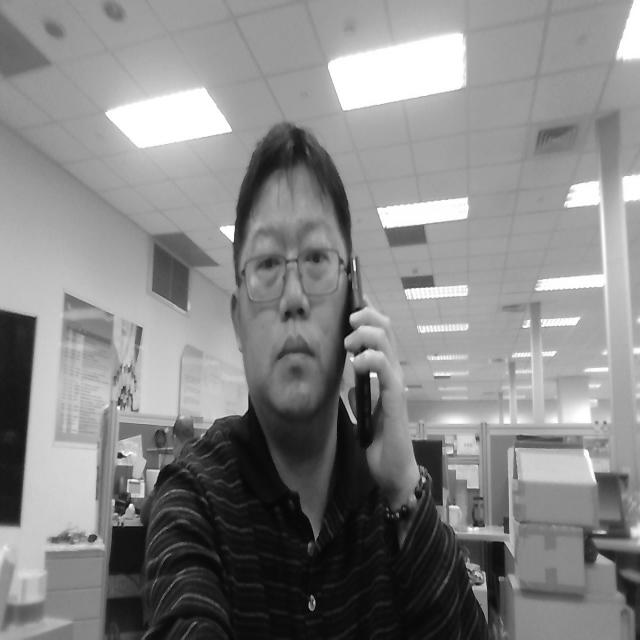phone: (319, 221, 407, 463)
